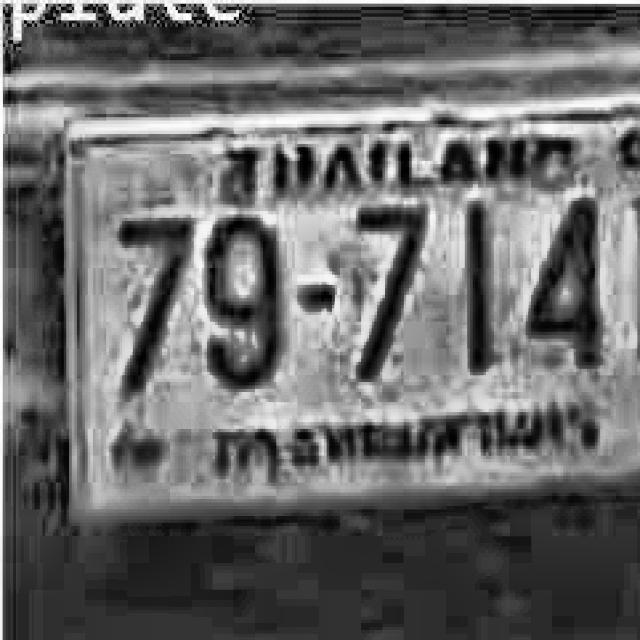license-plate: (37, 77, 640, 526)
